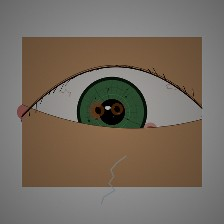foreign_body_visible: (99, 95, 135, 124)
